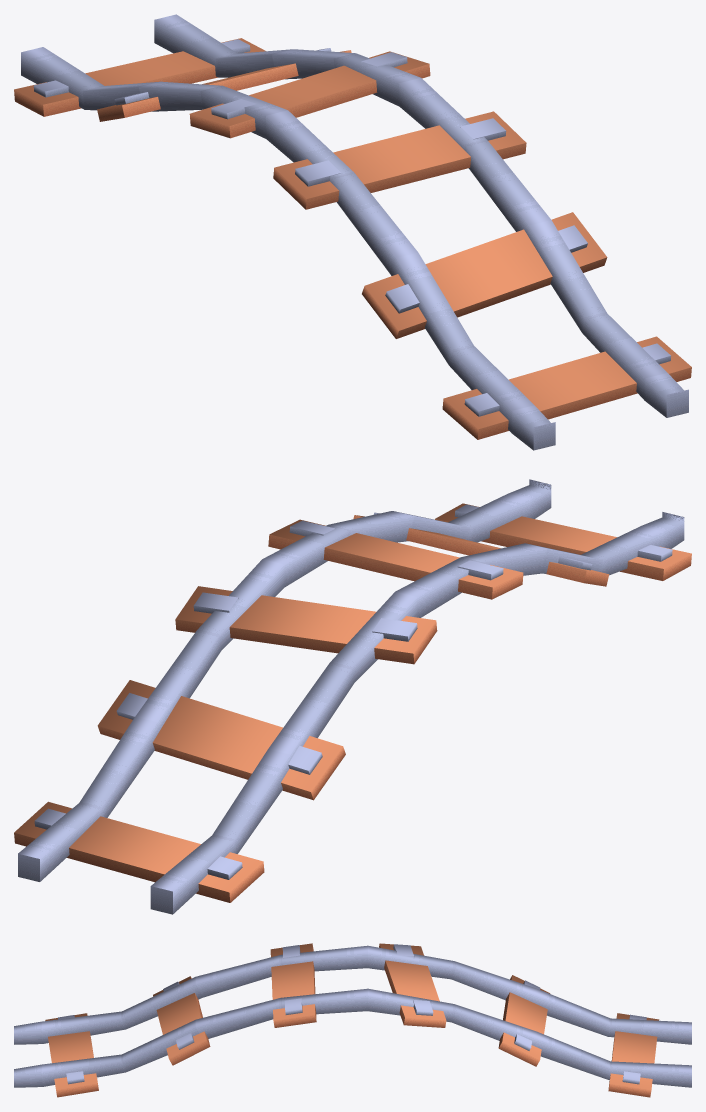
The model's file is railroad-damaged-straight-bump.glb.
The picture shows the model from 3 angles, top to bottom: view 1: azimuth 30°, elevation 25°; view 2: azimuth 150°, elevation 25°; view 3: azimuth 270°, elevation 25°; orthographic projection. The views are drawn at different scales.
Parts seen in each view (by area): view 1: railroad-damaged-straight-bump-up; view 2: railroad-damaged-straight-bump-up; view 3: railroad-damaged-straight-bump-up.
Boxes of the visible parts, box(x1,y1,x2,y2) form: railroad-damaged-straight-bump-up: box(14, 14, 691, 450); railroad-damaged-straight-bump-up: box(14, 479, 691, 914); railroad-damaged-straight-bump-up: box(14, 943, 691, 1097).
Bounding box in the file's own units: 1.03 × 0.5987 × 4.
Materials: 1 (1 with a texture image).
